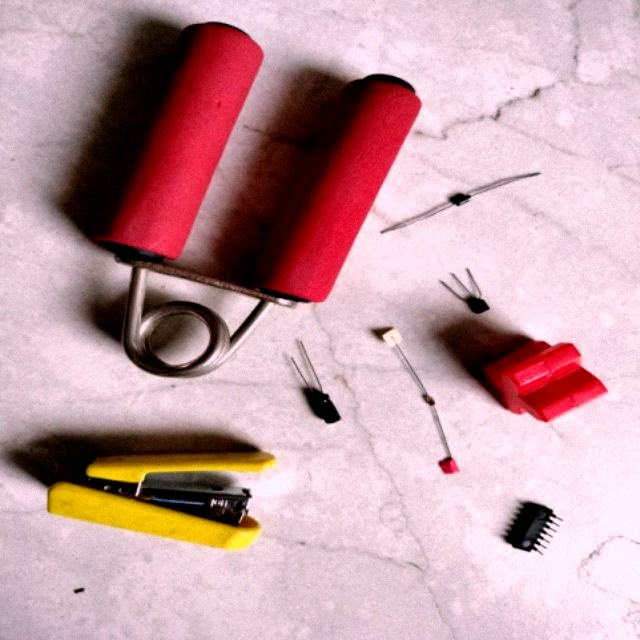capacitor: (292, 348, 340, 423)
